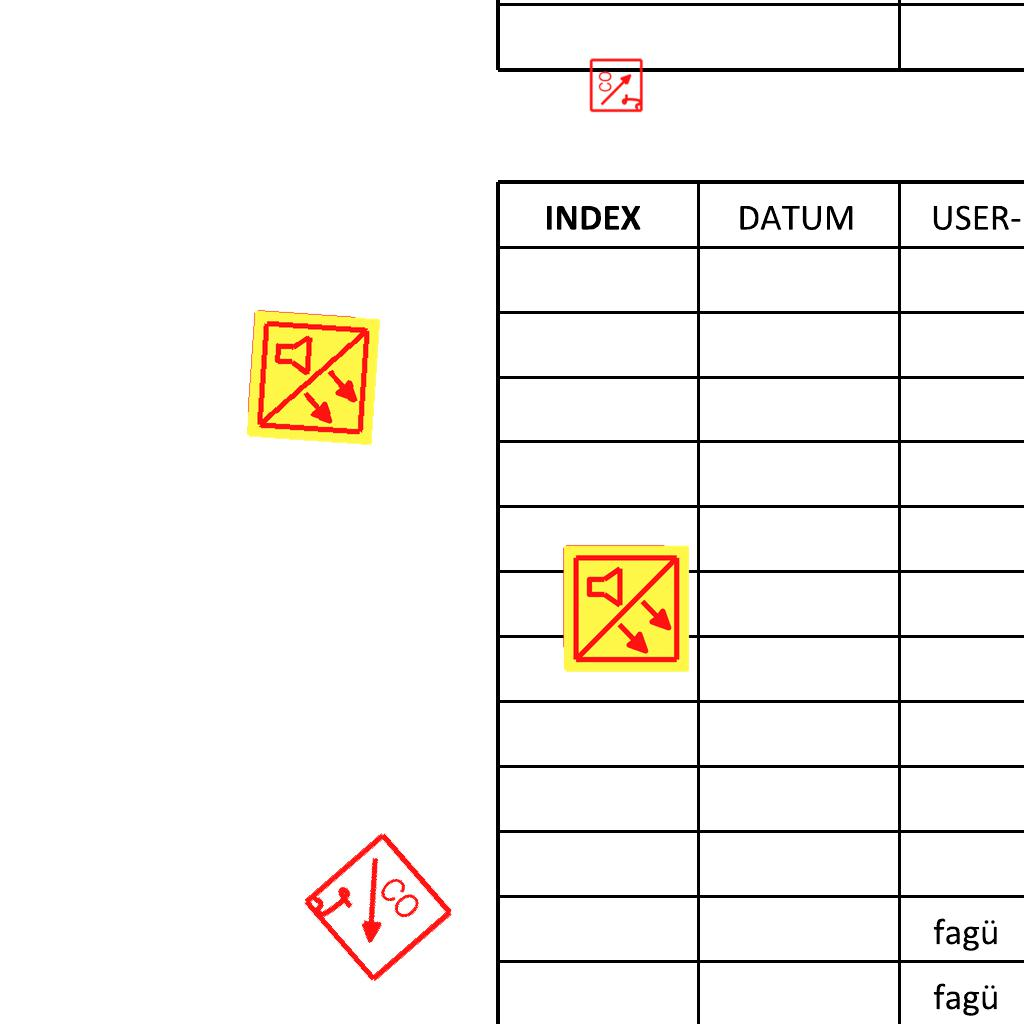OKW_Multisensormelder_(Kombination_optischer_Rauch-Kahlenmonoxid_Waerme-Melder): (242, 307, 384, 449), (560, 543, 692, 675)
ROA_Rauchmelder_optisch_mit_Signalgeber_(Sockelsirene): (297, 828, 458, 989), (589, 57, 645, 113)
